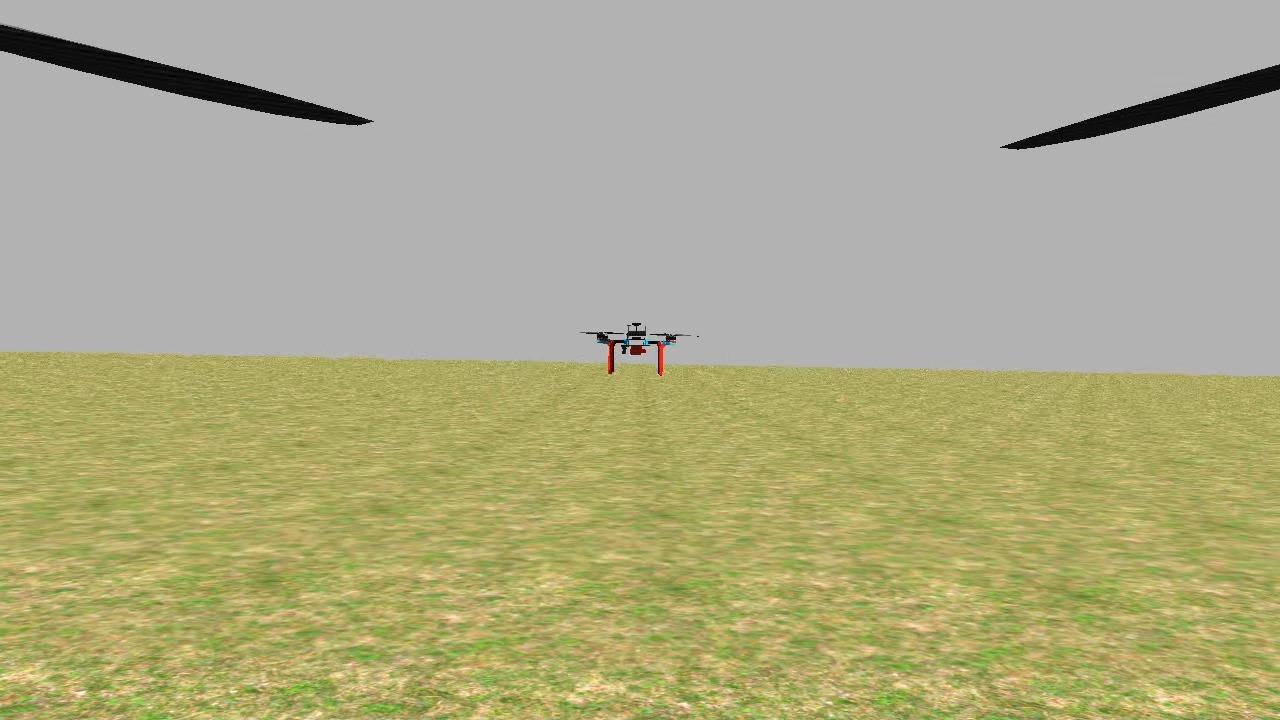UAV: (582, 311, 684, 382)
